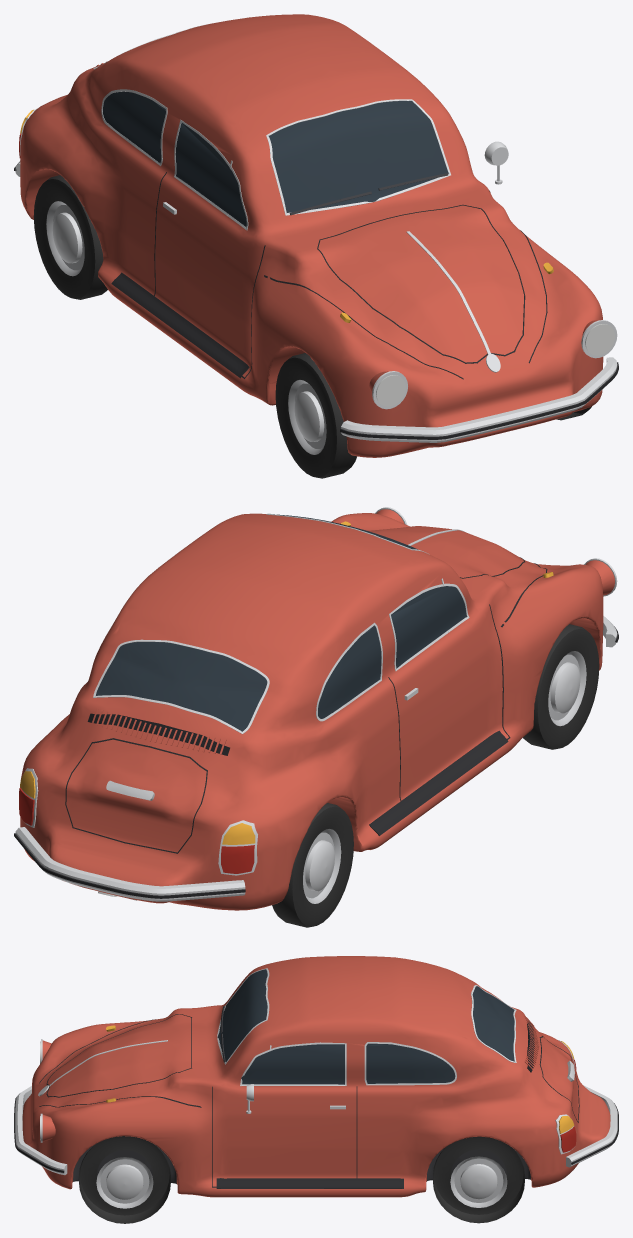
The model's file is kafer.glb.
3 renders of one model, top to bottom at view 1: azimuth 30°, elevation 25°; view 2: azimuth 150°, elevation 25°; view 3: azimuth 270°, elevation 25°, orthographic. The views are drawn at different scales.
Visible parts, largest first — view 1: paint, glass, trim, wheel_fr, wheel_rr, headlights; view 2: paint, glass, trim, wheel_fr, wheel_rr, taillights, rear_blinker_right; view 3: paint, glass, trim, wheel_fl, wheel_rl.
Boxes of the visible parts, <box> form: paint: <box>20,14,603,457</box>; glass: <box>103,91,448,227</box>; trim: <box>14,23,618,442</box>; wheel_fr: <box>275,353,357,478</box>; wheel_rr: <box>33,175,107,299</box>; headlights: <box>376,324,614,406</box>; paint: <box>20,513,603,910</box>; glass: <box>96,514,466,731</box>; trim: <box>14,507,618,901</box>; wheel_fr: <box>523,624,599,749</box>; wheel_rr: <box>272,803,353,927</box>; taillights: <box>19,788,254,873</box>; rear_blinker_right: <box>222,823,255,844</box>; paint: <box>22,956,610,1197</box>; glass: <box>217,969,514,1084</box>; trim: <box>14,968,618,1188</box>; wheel_fl: <box>79,1136,170,1223</box>; wheel_rl: <box>433,1136,524,1223</box>.
Bounding box in the file's own units: 1.7 × 1.5 × 4.14.
